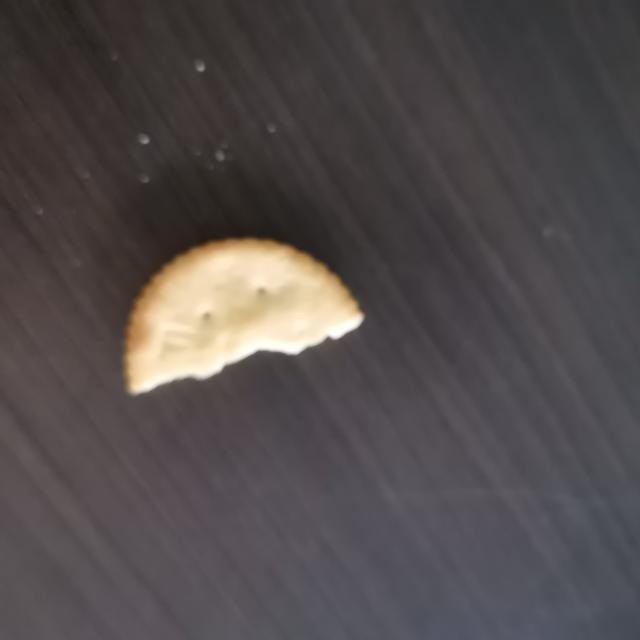Broken: (121, 236, 365, 396)
